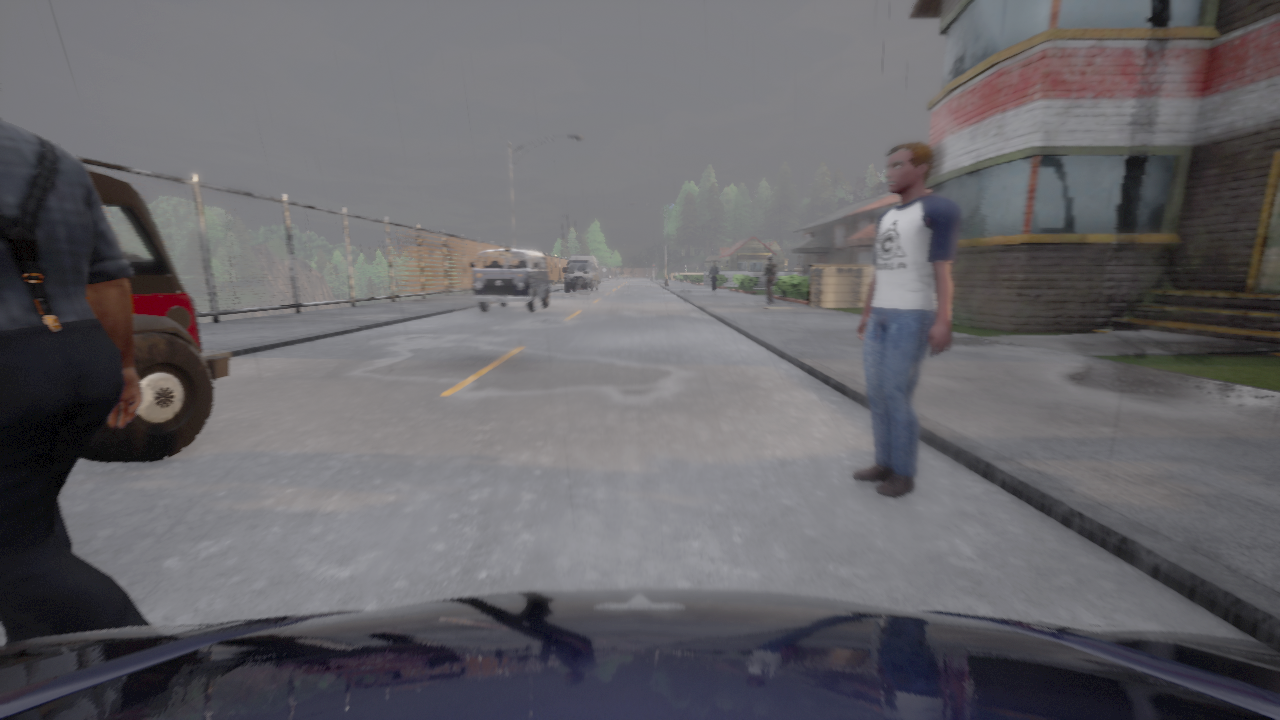cyclist: (0, 588, 1279, 719), (80, 167, 230, 462), (469, 248, 550, 312), (564, 255, 599, 291)
pedestrian: (853, 140, 961, 498), (761, 255, 777, 303), (709, 260, 720, 294)
